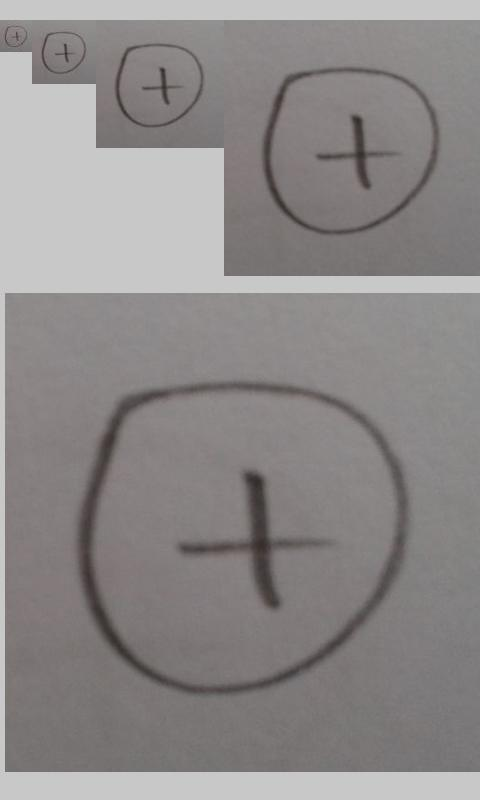button: (76, 380, 412, 697), (262, 66, 441, 236), (114, 42, 206, 129), (41, 31, 87, 74), (4, 25, 28, 48)
